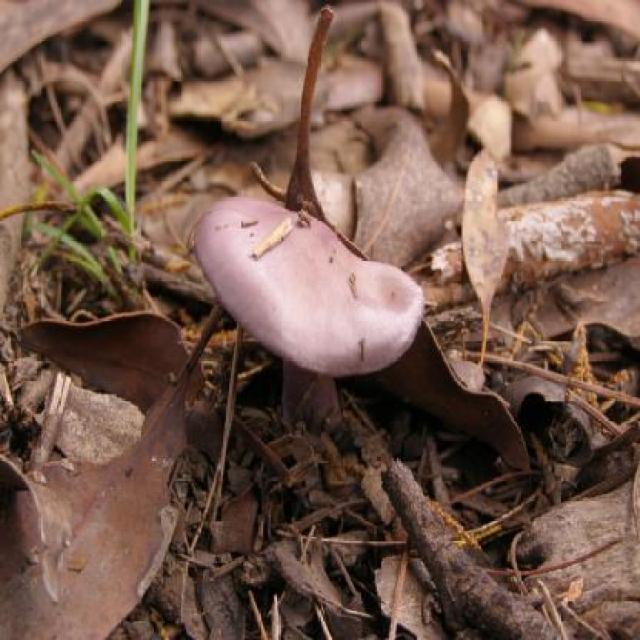Mushroom: (192, 192, 425, 426)
